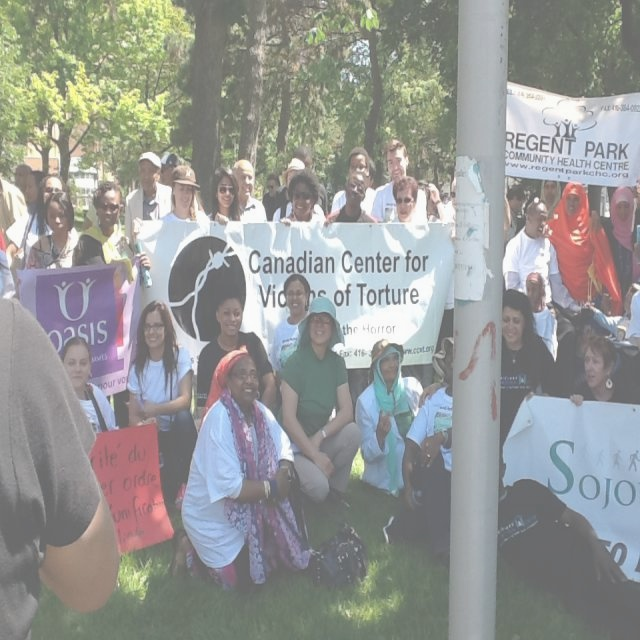pessoa: (0, 296, 124, 638), (184, 341, 318, 601), (498, 288, 586, 506), (279, 294, 362, 510), (124, 300, 201, 514), (322, 168, 380, 424), (500, 195, 584, 369), (195, 288, 278, 432), (354, 336, 426, 500), (540, 180, 624, 318), (400, 336, 454, 514), (5, 170, 70, 302), (588, 185, 640, 319), (518, 156, 624, 218), (61, 334, 120, 432), (72, 180, 138, 266), (122, 150, 176, 252), (268, 271, 312, 386), (568, 332, 632, 409), (371, 140, 428, 224), (272, 143, 330, 221), (26, 190, 80, 270), (158, 163, 224, 224), (0, 174, 32, 298), (584, 280, 640, 347), (270, 156, 324, 222), (524, 270, 560, 364), (329, 146, 377, 216), (278, 167, 332, 229), (10, 164, 56, 218), (439, 178, 457, 312), (231, 158, 268, 222), (374, 176, 419, 224), (207, 166, 242, 227), (504, 182, 527, 241), (259, 172, 286, 216), (359, 158, 382, 204), (159, 152, 183, 190)
